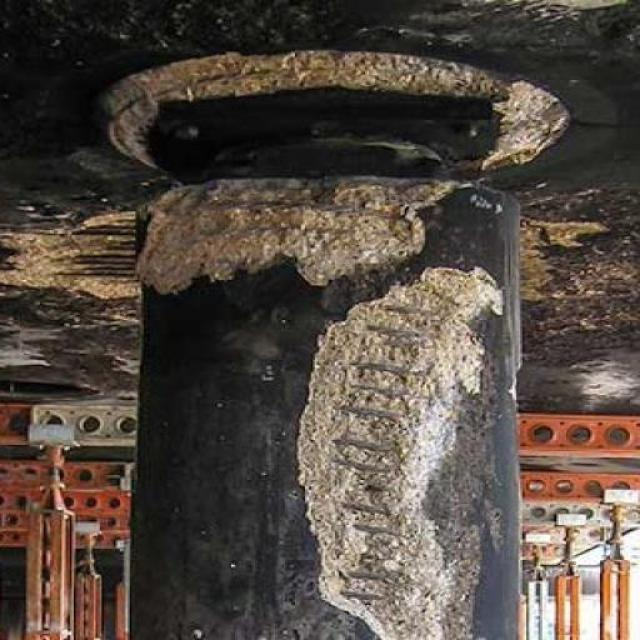D0w0: (299, 269, 485, 639), (104, 52, 568, 169), (138, 178, 469, 292)
